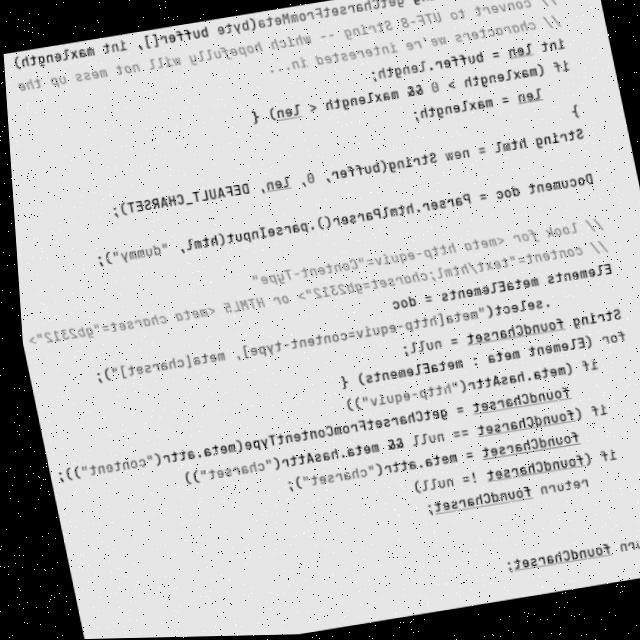code_screen: (4, 0, 640, 639)
